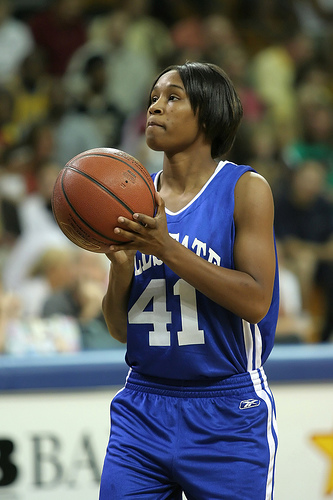basketball: (53, 147, 156, 253)
